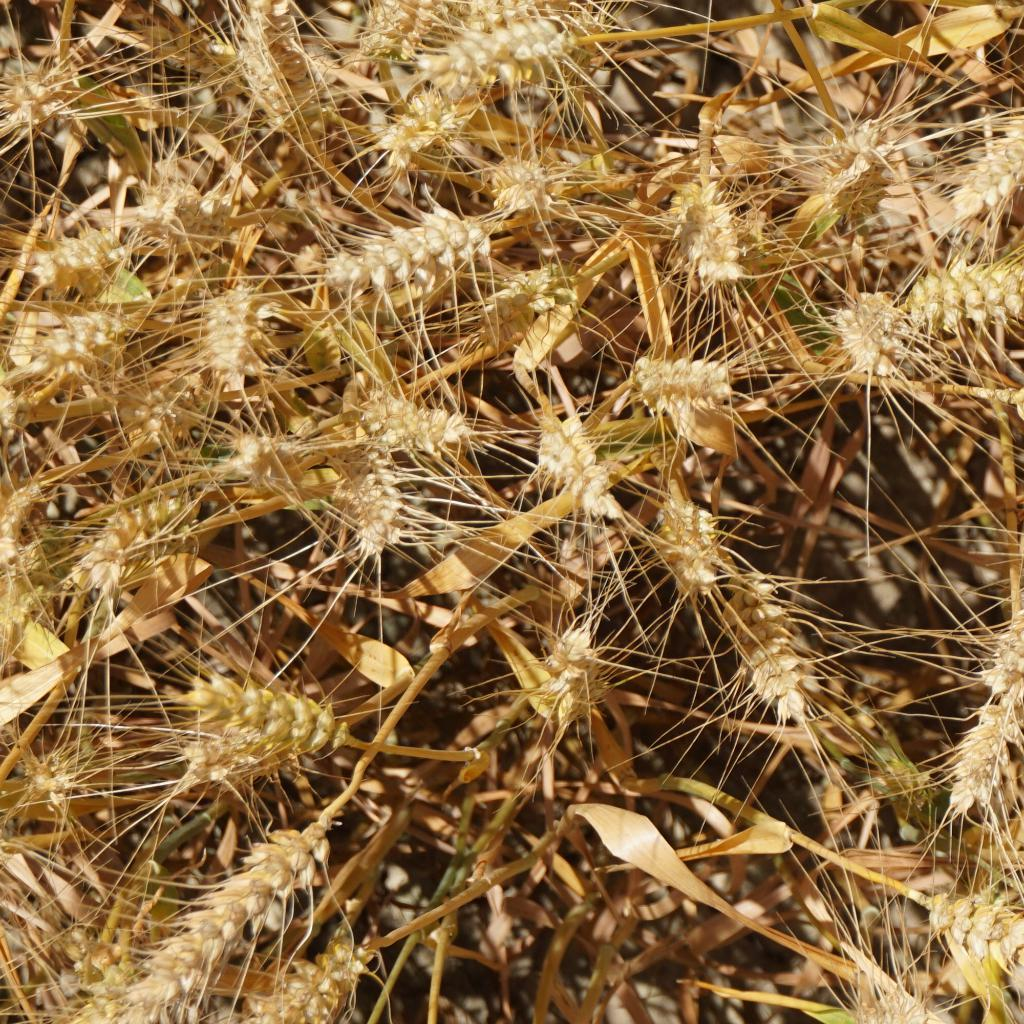0-0: (141, 815, 313, 992), (157, 653, 336, 754), (321, 197, 490, 289), (350, 376, 492, 474), (84, 476, 214, 581), (25, 188, 155, 291), (242, 0, 334, 141), (915, 882, 1024, 994), (419, 7, 586, 78), (738, 579, 819, 722), (2, 283, 135, 366), (935, 671, 1024, 795), (197, 262, 271, 411), (898, 253, 1024, 340), (815, 277, 933, 368), (628, 338, 750, 423), (939, 94, 1024, 214), (537, 405, 616, 529), (523, 620, 606, 738), (214, 411, 318, 504), (157, 163, 260, 255), (0, 45, 90, 147), (379, 72, 474, 161), (811, 121, 889, 226), (669, 188, 750, 287), (263, 949, 363, 1024), (338, 454, 409, 549), (488, 149, 572, 224), (653, 474, 714, 572), (128, 370, 197, 451), (356, 0, 433, 65), (984, 561, 1024, 671), (0, 391, 31, 486), (0, 474, 37, 553), (0, 793, 23, 915)
